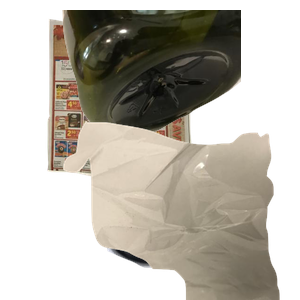glass: (95, 164, 286, 300)
paper: (44, 11, 229, 181)
plastic: (60, 10, 300, 139)
trash: (61, 120, 300, 300)
